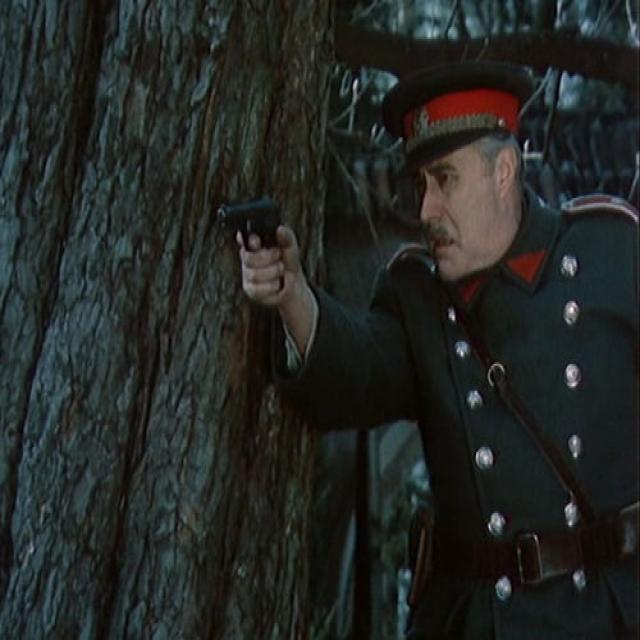weapons: (209, 188, 294, 308)
